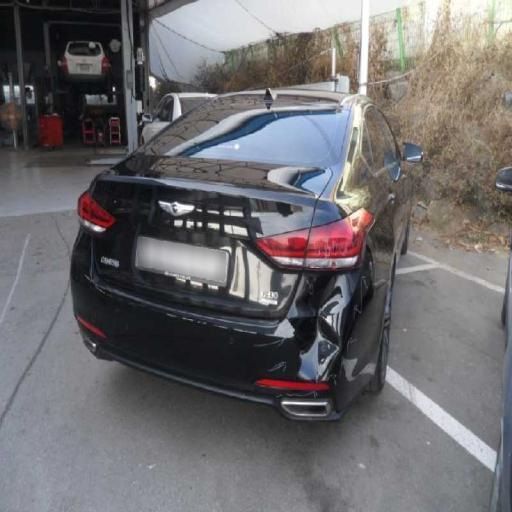dent: (276, 241, 364, 381)
scratch: (126, 178, 257, 242)
